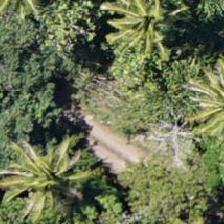coconut_tree: (1, 133, 91, 223), (81, 0, 171, 63)
